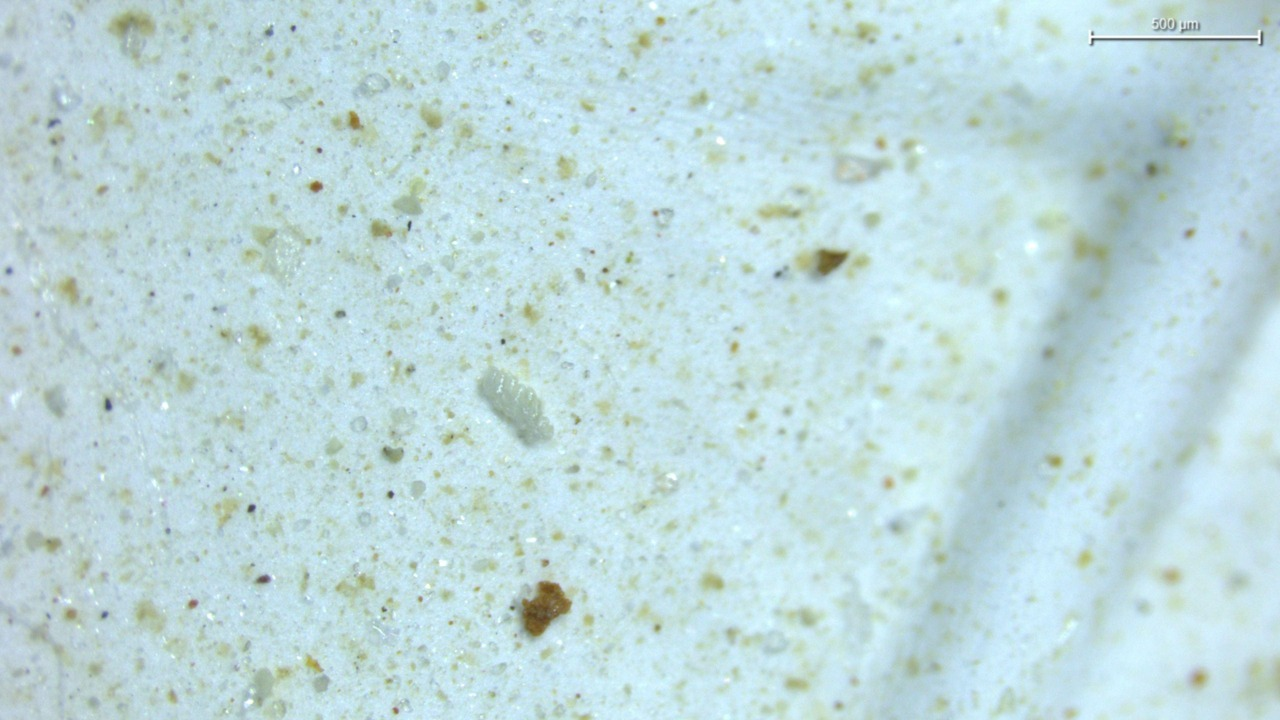microplastic_fragment: (477, 367, 552, 445), (521, 581, 571, 636)
